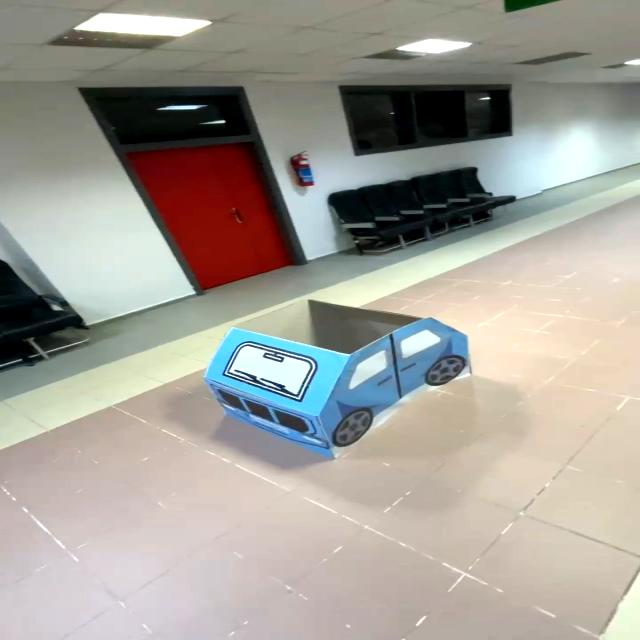blue_car: (185, 290, 503, 463)
